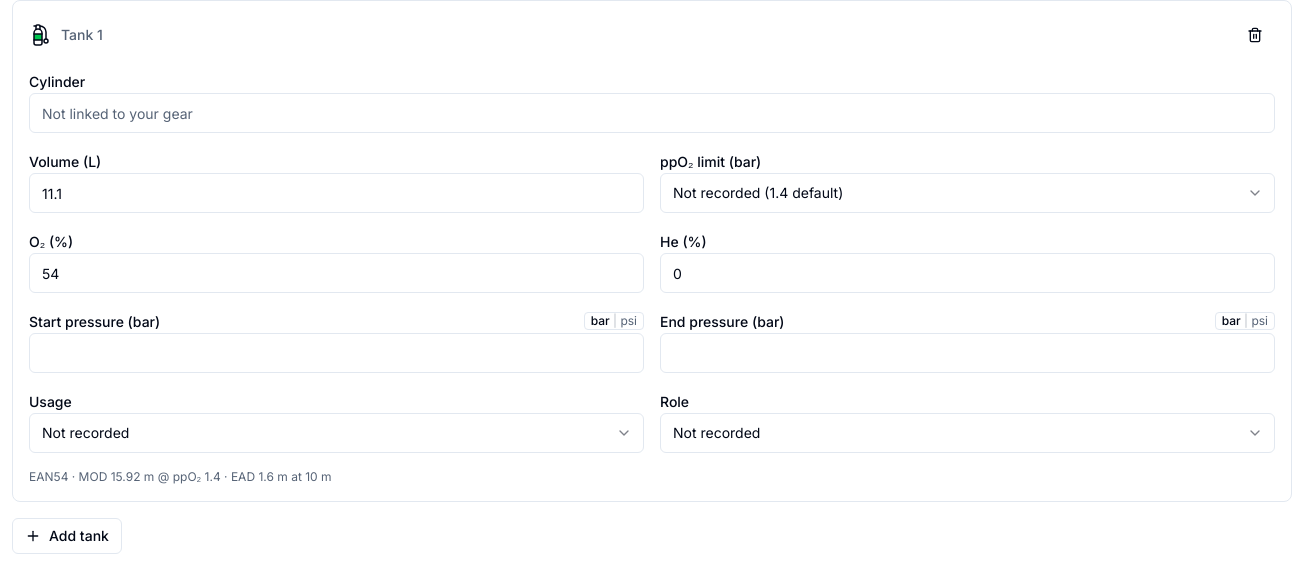
it: MixtureFields cylinder picker › says the diver has no cylinders when the lookup lists none
The width and height of the screenshot is (1292, 571).
Click the dropdown labelled "Cylinder".
click(652, 113)  # box [29, 93, 1275, 133]
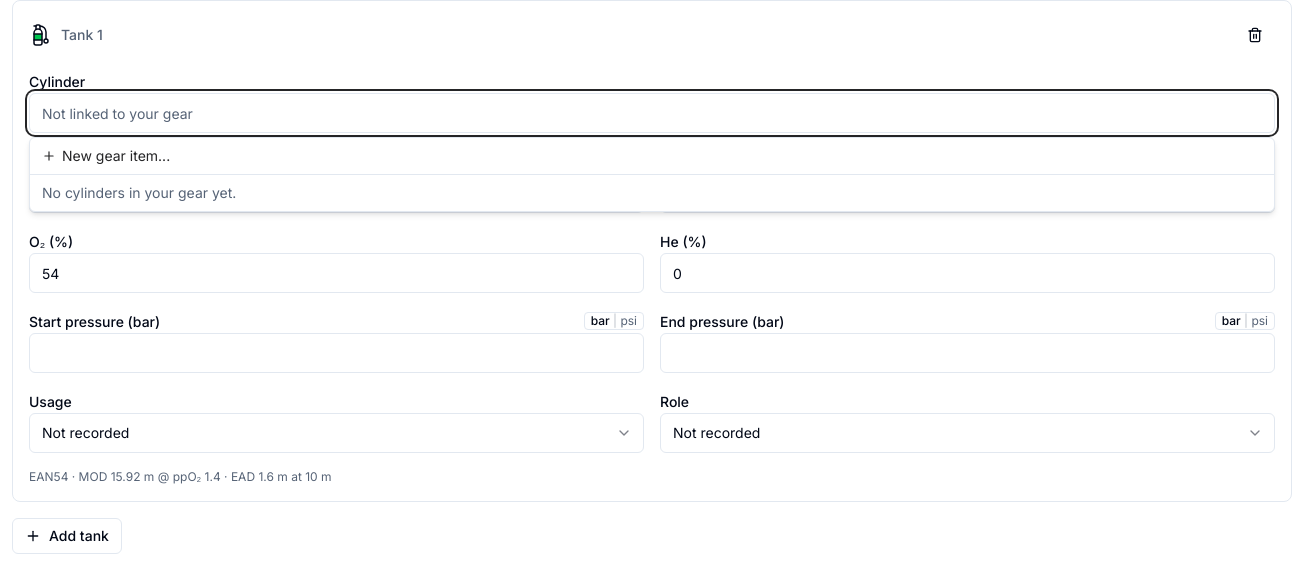
Expected: the text "No cylinders in your gear yet." is shown, [42, 184, 236, 201]
Expected: the option "New gear item..." is shown, [30, 138, 1274, 175]
